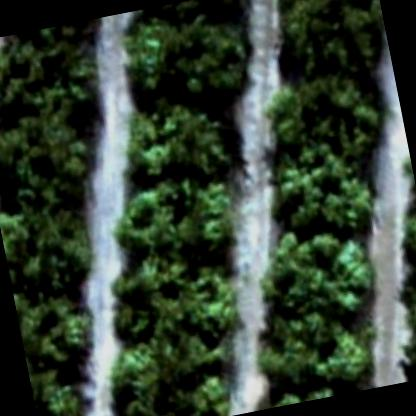Canopy-Citrus: (116, 0, 261, 116), (100, 244, 244, 350), (254, 220, 382, 338), (266, 66, 391, 172), (263, 136, 383, 242), (110, 167, 238, 266), (0, 194, 104, 310), (103, 327, 239, 415), (0, 103, 108, 213), (253, 304, 382, 396), (266, 0, 392, 90), (0, 23, 107, 124), (121, 93, 230, 182), (14, 287, 103, 380), (29, 365, 111, 415), (260, 374, 358, 408), (395, 267, 415, 358), (396, 196, 415, 272)
